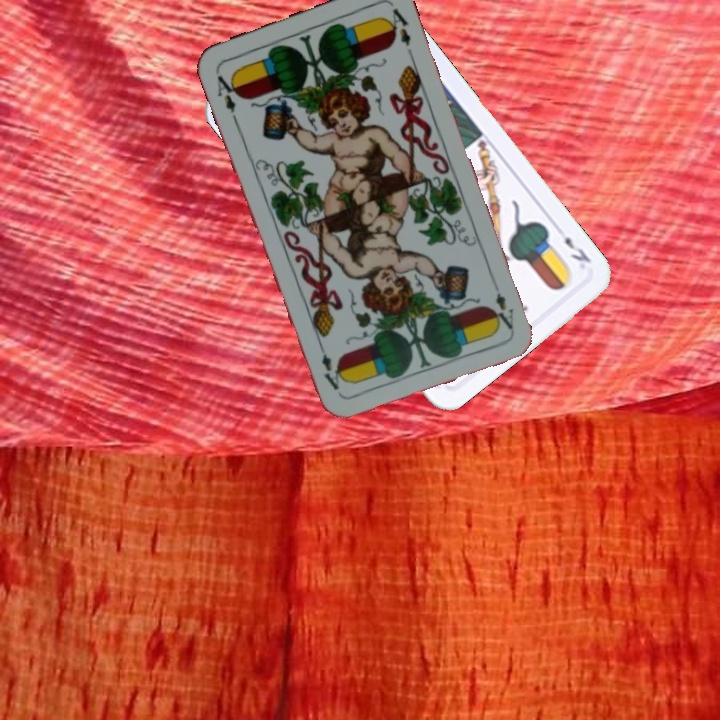EA: (211, 67, 242, 124), (487, 288, 517, 332)
EK: (560, 232, 594, 266)
